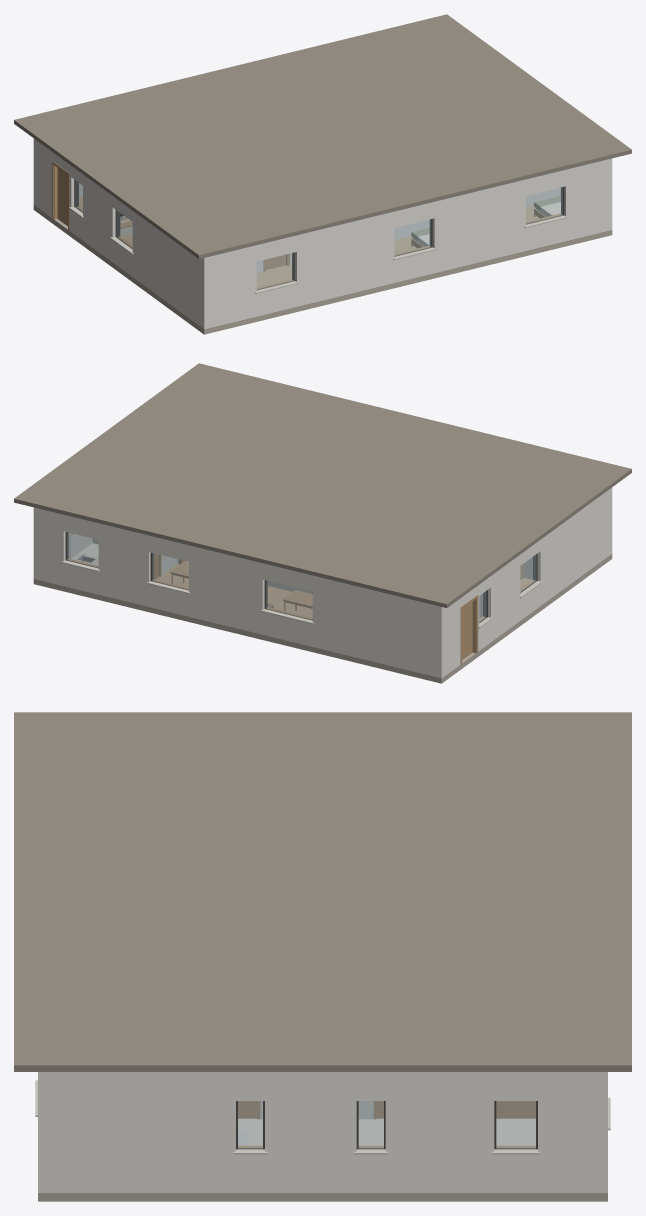
Rendered from courtyard-house.glb.
3 renders of one model, top to bottom at view 1: azimuth 30°, elevation 25°; view 2: azimuth 150°, elevation 25°; view 3: azimuth 270°, elevation 25°, orthographic. The views are drawn at different scales.
Visible parts, largest first — view 1: roof:roof_1, wall:shell, slab:slab, window:s_bed1:glass, window:s_bed3:glass, window:s_bed2:glass, wall:w_band_s, door:d_front, floor:r_bed1, furniture:bed_19; view 2: roof:roof_1, wall:shell, slab:slab, window:n_living:glass, window:n_dining:glass, window:n_kitchen:glass, floor:r_living, door:d_front, window:w_study:glass; view 3: roof:roof_1, wall:shell, slab:slab, window:e_kitchen:glass, window:e_bath:glass, window:e_util:glass, floor:r_kitchen, door:d_kitch, floor:r_bath.
Boxes of the visible parts, x1,y1,x2,y2 form: roof:roof_1: [14, 14, 631, 258]; wall:shell: [33, 138, 612, 329]; slab:slab: [33, 205, 612, 334]; window:s_bed1:glass: [257, 253, 293, 289]; window:s_bed3:glass: [526, 187, 562, 223]; window:s_bed2:glass: [394, 219, 430, 255]; wall:w_band_s: [256, 188, 560, 273]; door:d_front: [57, 168, 67, 226]; floor:r_bed1: [256, 265, 291, 287]; furniture:bed_19: [534, 196, 560, 218]; roof:roof_1: [14, 363, 631, 607]; wall:shell: [33, 487, 612, 678]; slab:slab: [33, 554, 612, 683]; window:n_living:glass: [266, 581, 312, 619]; window:n_dining:glass: [152, 553, 188, 589]; window:n_kitchen:glass: [67, 532, 98, 567]; floor:r_living: [267, 586, 312, 617]; door:d_front: [462, 602, 472, 659]; window:w_study:glass: [520, 554, 536, 592]; roof:roof_1: [14, 712, 631, 1071]; wall:shell: [38, 1072, 607, 1192]; slab:slab: [38, 1193, 607, 1201]; window:e_kitchen:glass: [496, 1101, 535, 1148]; window:e_bath:glass: [359, 1101, 383, 1148]; window:e_util:glass: [238, 1101, 262, 1148]; floor:r_kitchen: [496, 1118, 535, 1145]; door:d_kitch: [496, 1101, 535, 1118]; floor:r_bath: [358, 1118, 383, 1145].
Size of the model in its own units: 17.3 by 3.35 by 12.8.
